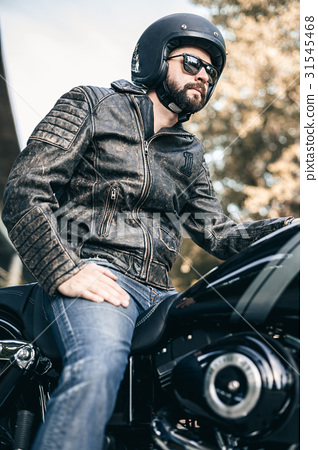helmet: (128, 5, 229, 81)
